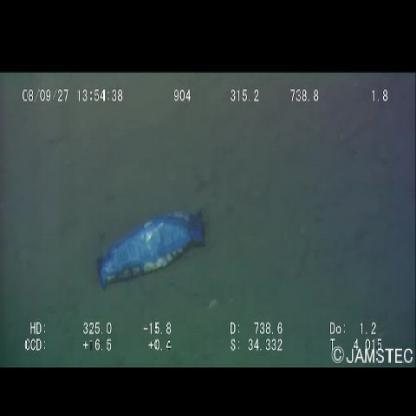Rác: (90, 204, 213, 295)
